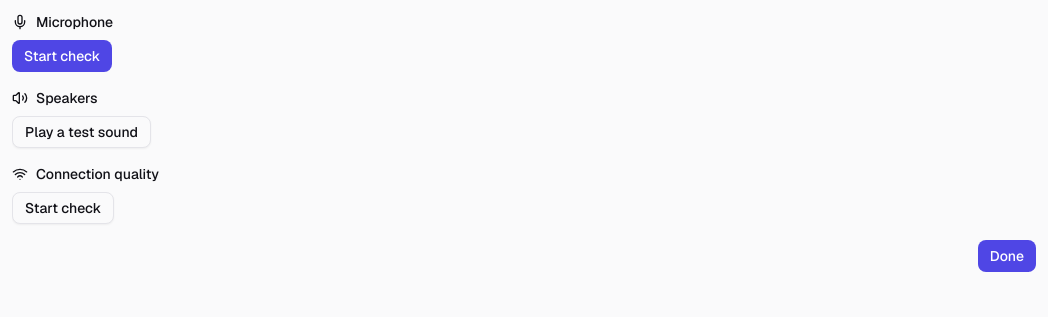
it: MicCheck › explains a refused microphone and offers to try again
Click the button with test id "mic-check-start". click: (62,56)
box: [12,40,112,72]
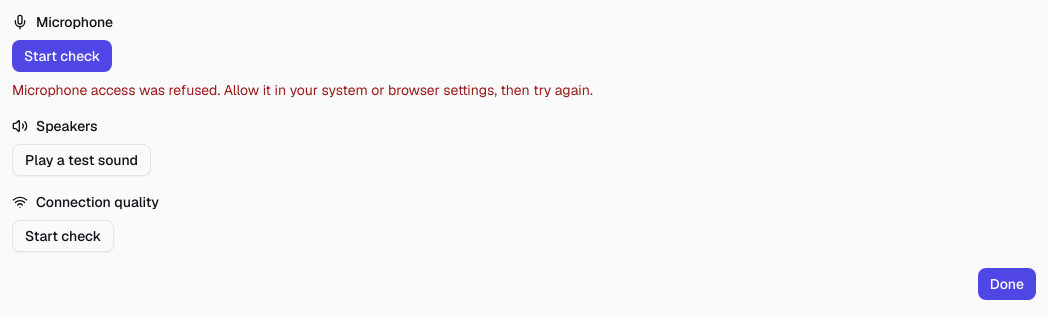
Expected: the message with test id "mic-check-problem" shows "refused", [12,81,593,99]
